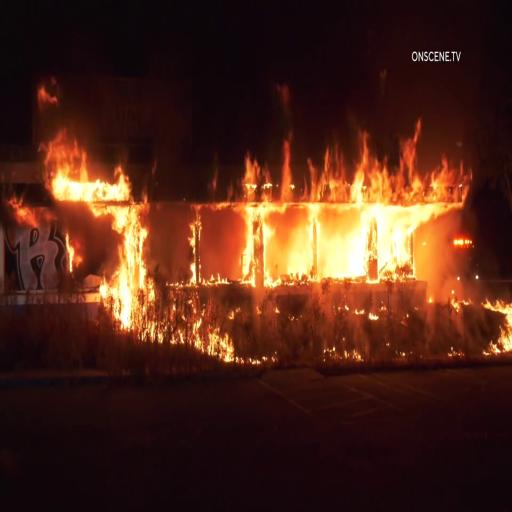fire: (262, 132, 466, 279), (52, 135, 149, 314)
